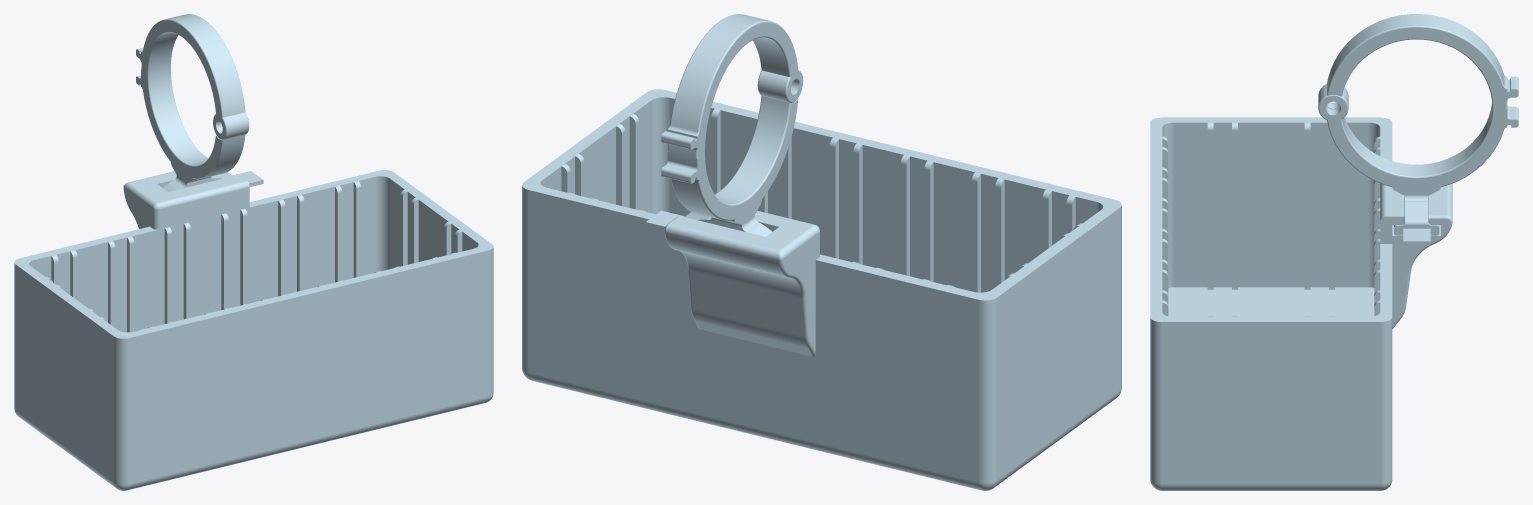
Rendered from Assembly-v2.gltf.
3 views of the same model, side by side, from view 1: azimuth 30°, elevation 25°; view 2: azimuth 150°, elevation 25°; view 3: azimuth 270°, elevation 25° (orthographic). The views are drawn at different scales.
Visible parts, largest first — view 1: half basin (×2), clamp base, clamp top, connector; view 2: half basin (×2), connector, clamp base, clamp top; view 3: half basin (×2), clamp base, clamp top, connector.
Boxes of the visible parts, <box> form: half basin (×2): <box>14,170,493,490</box>; clamp base: <box>136,69,263,191</box>; clamp top: <box>136,14,245,139</box>; connector: <box>123,171,249,229</box>; half basin (×2): <box>522,89,1121,490</box>; connector: <box>664,210,819,356</box>; clamp base: <box>645,70,798,236</box>; clamp top: <box>661,14,803,158</box>; half basin (×2): <box>1150,117,1392,490</box>; clamp base: <box>1318,90,1518,245</box>; clamp top: <box>1318,14,1518,109</box>; connector: <box>1380,183,1452,328</box>.
Bounding box in the file's own units: 0.2032 × 0.1738 × 0.1546.
